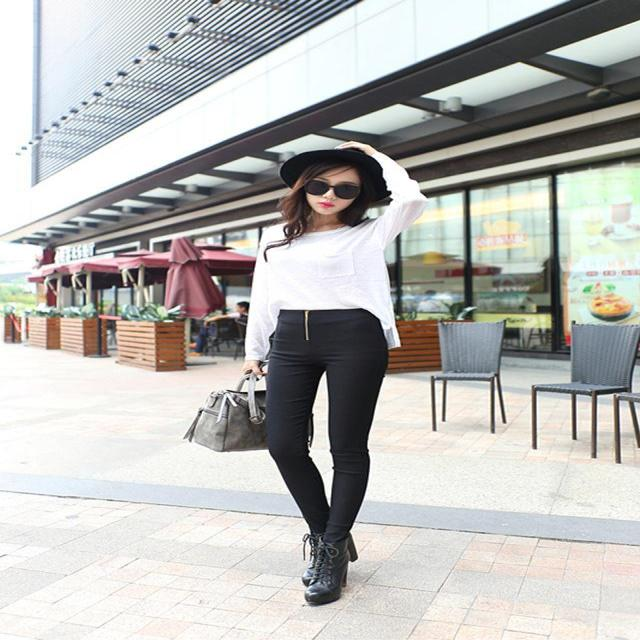long-sleeve-top: (228, 223, 410, 314)
trousers: (250, 323, 425, 556)
